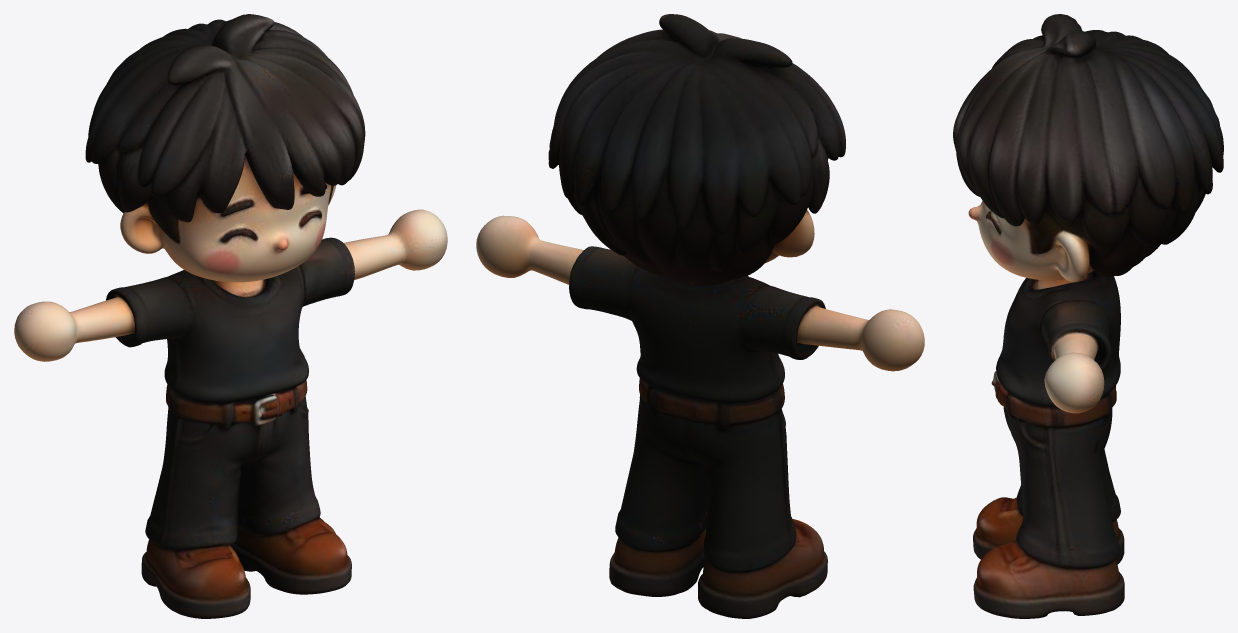
Rendered from bred.glb.
3 views of the same model, side by side, from view 1: azimuth 30°, elevation 25°; view 2: azimuth 150°, elevation 25°; view 3: azimuth 270°, elevation 25° (orthographic). The views are drawn at different scales.
Visible parts, largest first — view 1: bred; view 2: bred; view 3: bred.
Boxes of the visible parts, left/top/right/bottom form: bred: left=14, top=14, right=447, bottom=618; bred: left=476, top=14, right=924, bottom=618; bred: left=953, top=14, right=1223, bottom=618.
Size of the model in its own units: 1.7 by 2.1 by 0.9301.
Materials: 1 (1 with a texture image).
